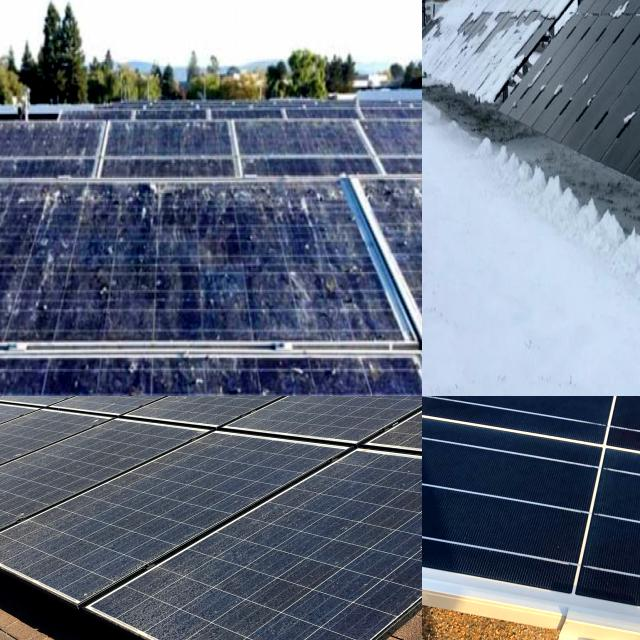bird: (232, 190, 356, 237), (8, 183, 58, 292), (92, 268, 159, 314)
crack: (422, 396, 640, 640)
dust: (181, 554, 362, 640), (0, 475, 175, 552), (334, 455, 422, 543), (0, 414, 55, 472), (118, 587, 180, 630)
panel: (422, 34, 496, 84), (510, 0, 586, 29), (448, 0, 503, 25), (497, 52, 533, 82), (609, 1, 640, 29), (616, 103, 640, 131), (422, 0, 438, 40), (578, 76, 594, 97), (552, 82, 566, 100)
